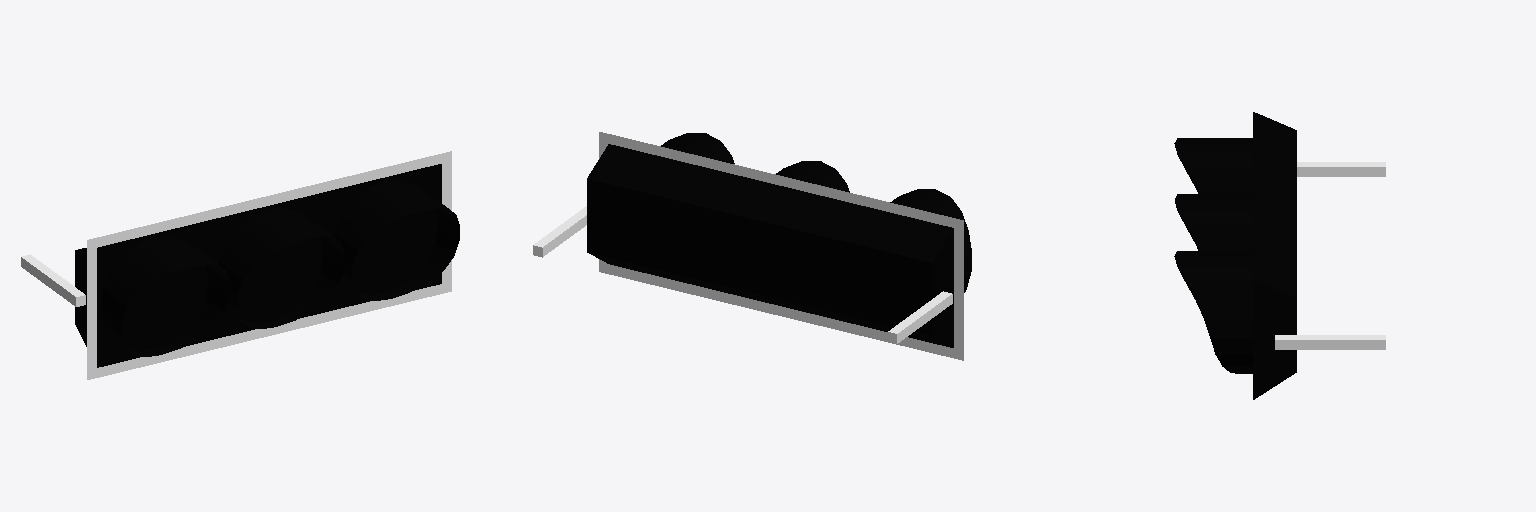
The model's file is TLS4_horizontal.obj.
The picture shows the model from 3 angles: view 1: azimuth 30°, elevation 25°; view 2: azimuth 150°, elevation 25°; view 3: azimuth 270°, elevation 25°; orthographic projection.
Bounding box in the file's own units: 2.38 × 0.875 × 1.19.